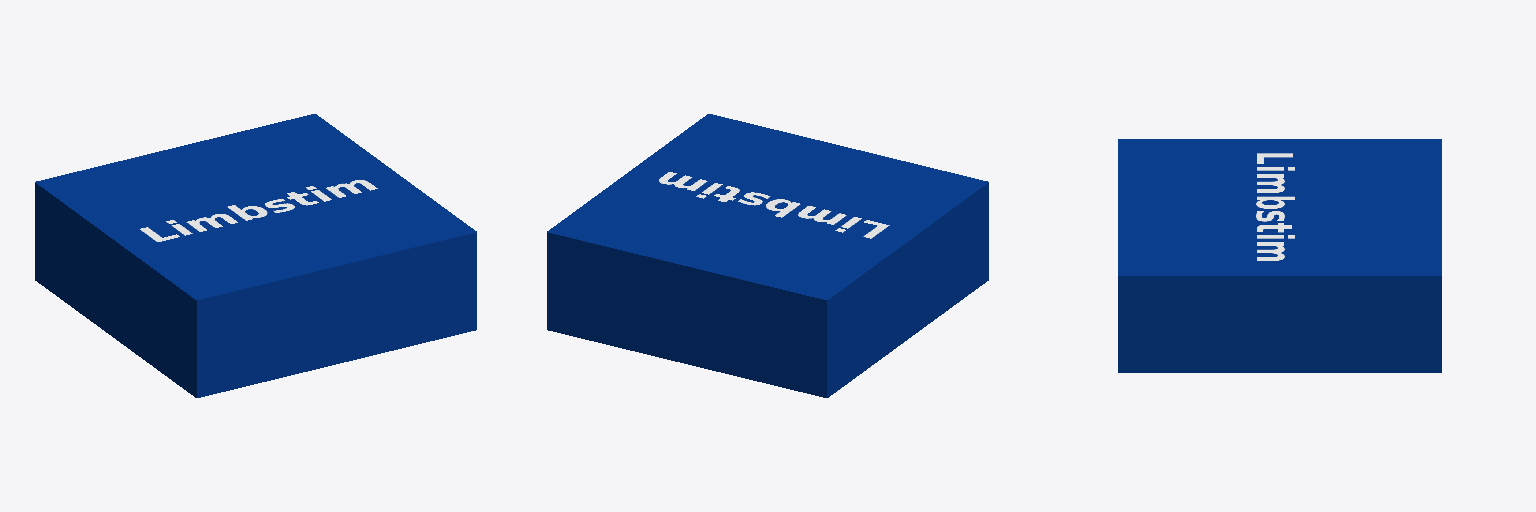
3 views of the same model, side by side, from view 1: azimuth 30°, elevation 25°; view 2: azimuth 150°, elevation 25°; view 3: azimuth 270°, elevation 25° (orthographic).
Size of the model in its own units: 9 by 3 by 9.
Materials: 2 (1 with a texture image).